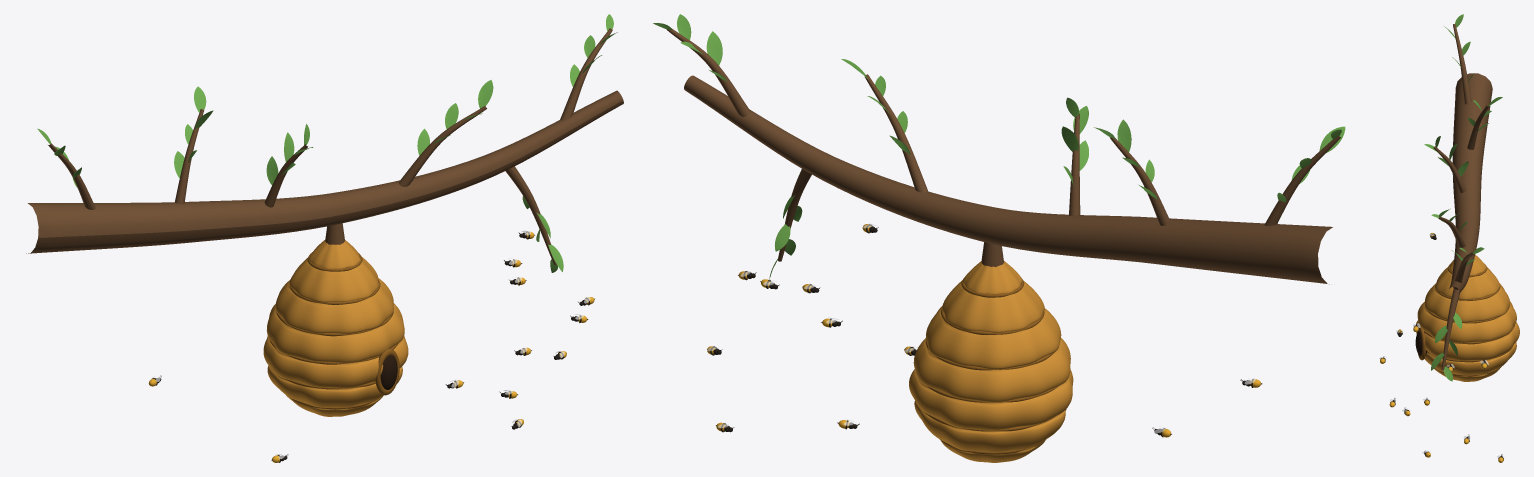
The model's file is madu_hutan.glb.
3 views of the same model, side by side, from view 1: azimuth 30°, elevation 25°; view 2: azimuth 150°, elevation 25°; view 3: azimuth 270°, elevation 25° (orthographic). The views are drawn at different scales.
Visible parts, largest first — view 1: branch, hive, twig_3, twig_5, twig_4, twig_2; view 2: branch, hive, twig_3, twig_5, twig_1, twig_2, twig_6; view 3: hive, branch, twig_4, twig_1, twig_6, twig_2, twig_3, twig_5, hive_entrance_rim.
Part boxes in pixels (x1,y1,x2,y2): branch: [26, 90, 623, 253]; hive: [263, 240, 408, 416]; twig_3: [398, 106, 486, 186]; twig_5: [560, 28, 612, 120]; twig_4: [505, 166, 556, 265]; twig_2: [175, 109, 204, 203]; branch: [684, 75, 1332, 284]; hive: [909, 261, 1073, 462]; twig_3: [864, 74, 928, 192]; twig_5: [667, 28, 750, 116]; twig_1: [1264, 136, 1340, 225]; twig_2: [1110, 137, 1170, 225]; twig_6: [1069, 113, 1080, 215]; hive: [1416, 255, 1519, 381]; branch: [1449, 73, 1492, 293]; twig_4: [1441, 288, 1459, 370]; twig_1: [1453, 24, 1471, 104]; twig_6: [1433, 146, 1466, 192]; twig_2: [1467, 105, 1488, 149]; twig_3: [1438, 216, 1465, 247]; twig_5: [1453, 252, 1473, 289]; hive_entrance_rim: [1416, 326, 1425, 360].
Bounding box in the file's own units: 1.47 × 0.9244 × 0.4175.
